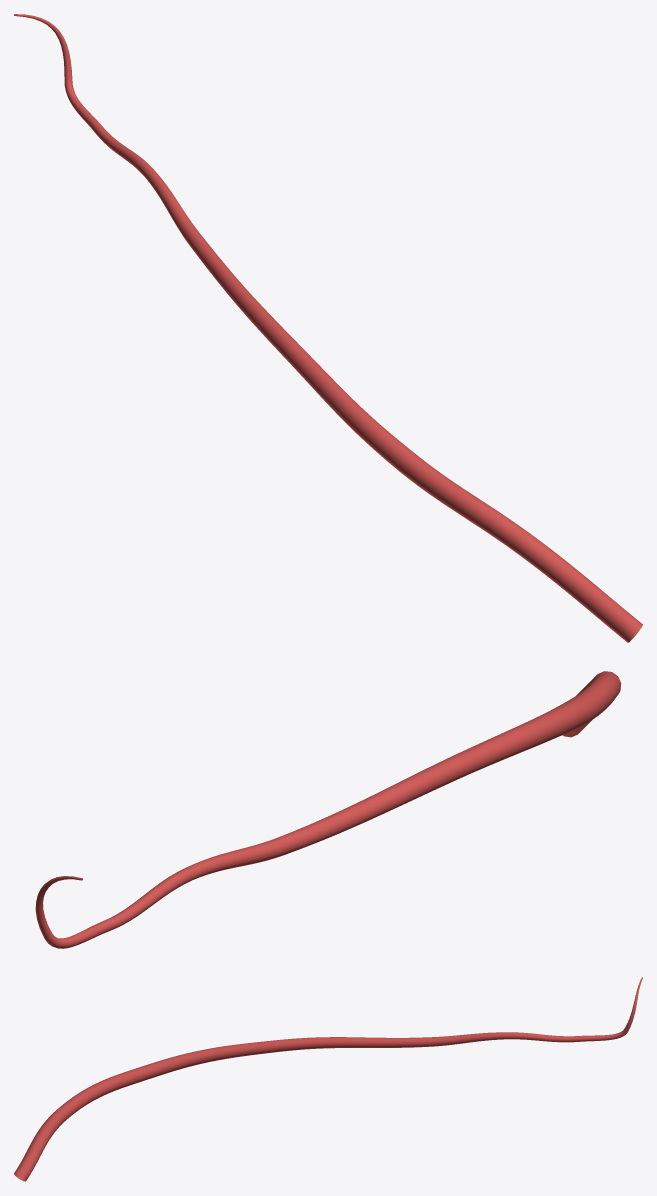
3 views of the same model, one above another, from view 1: azimuth 30°, elevation 25°; view 2: azimuth 150°, elevation 25°; view 3: azimuth 270°, elevation 25° (orthographic). The views are drawn at different scales.
Visible parts, largest first — view 1: 右侧股深动脉; view 2: 右侧股深动脉; view 3: 右侧股深动脉.
Part boxes in pixels (x1,y1,x2,y2): 右侧股深动脉: (14,14,642,642); 右侧股深动脉: (35,671,621,948); 右侧股深动脉: (14,977,642,1181).
Bounding box in the file's own units: 0.0626 × 0.1155 × 0.3828.
